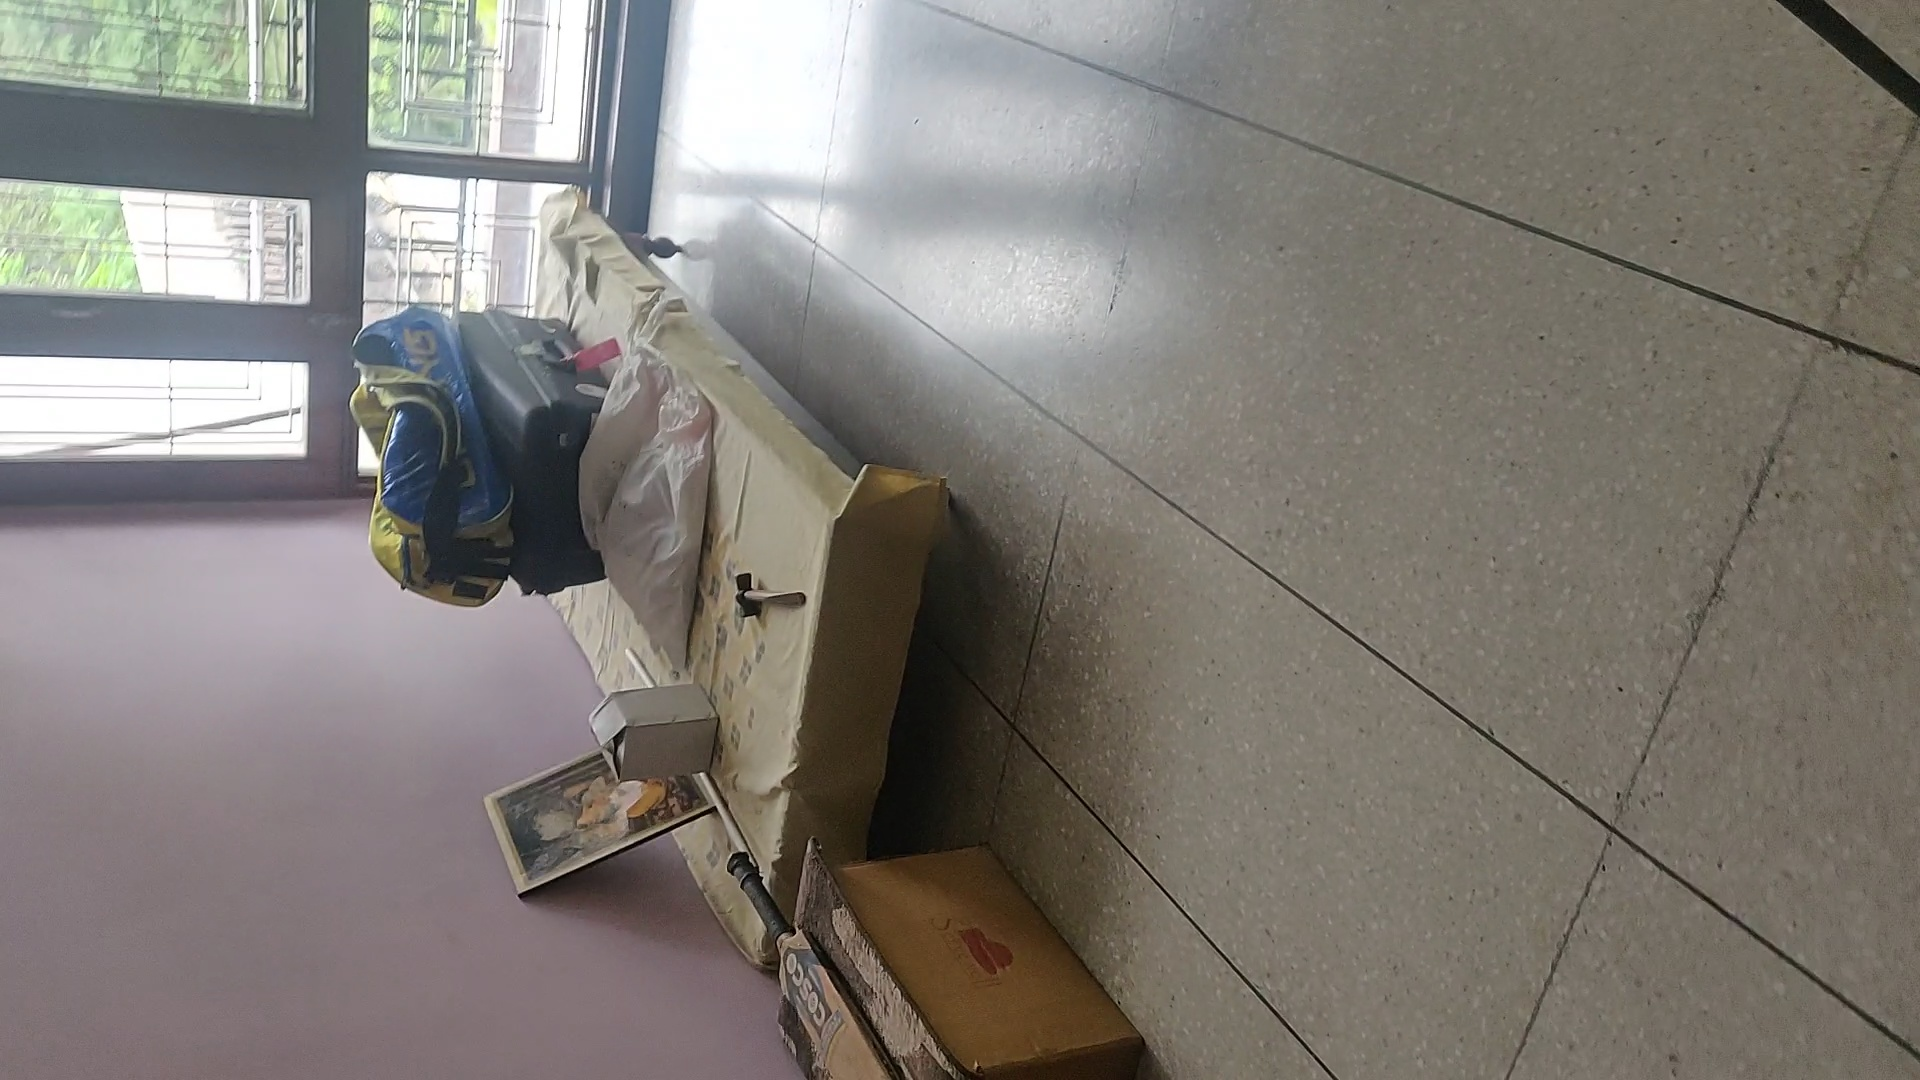hammer: (728, 568, 806, 624)
